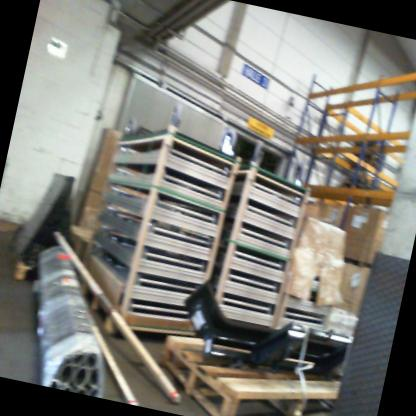pallet: (142, 316, 344, 416), (65, 271, 199, 357)
